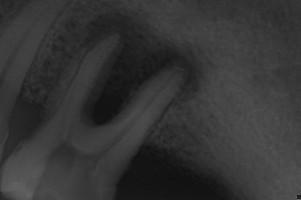Dental Caries: (81, 9, 199, 125)
